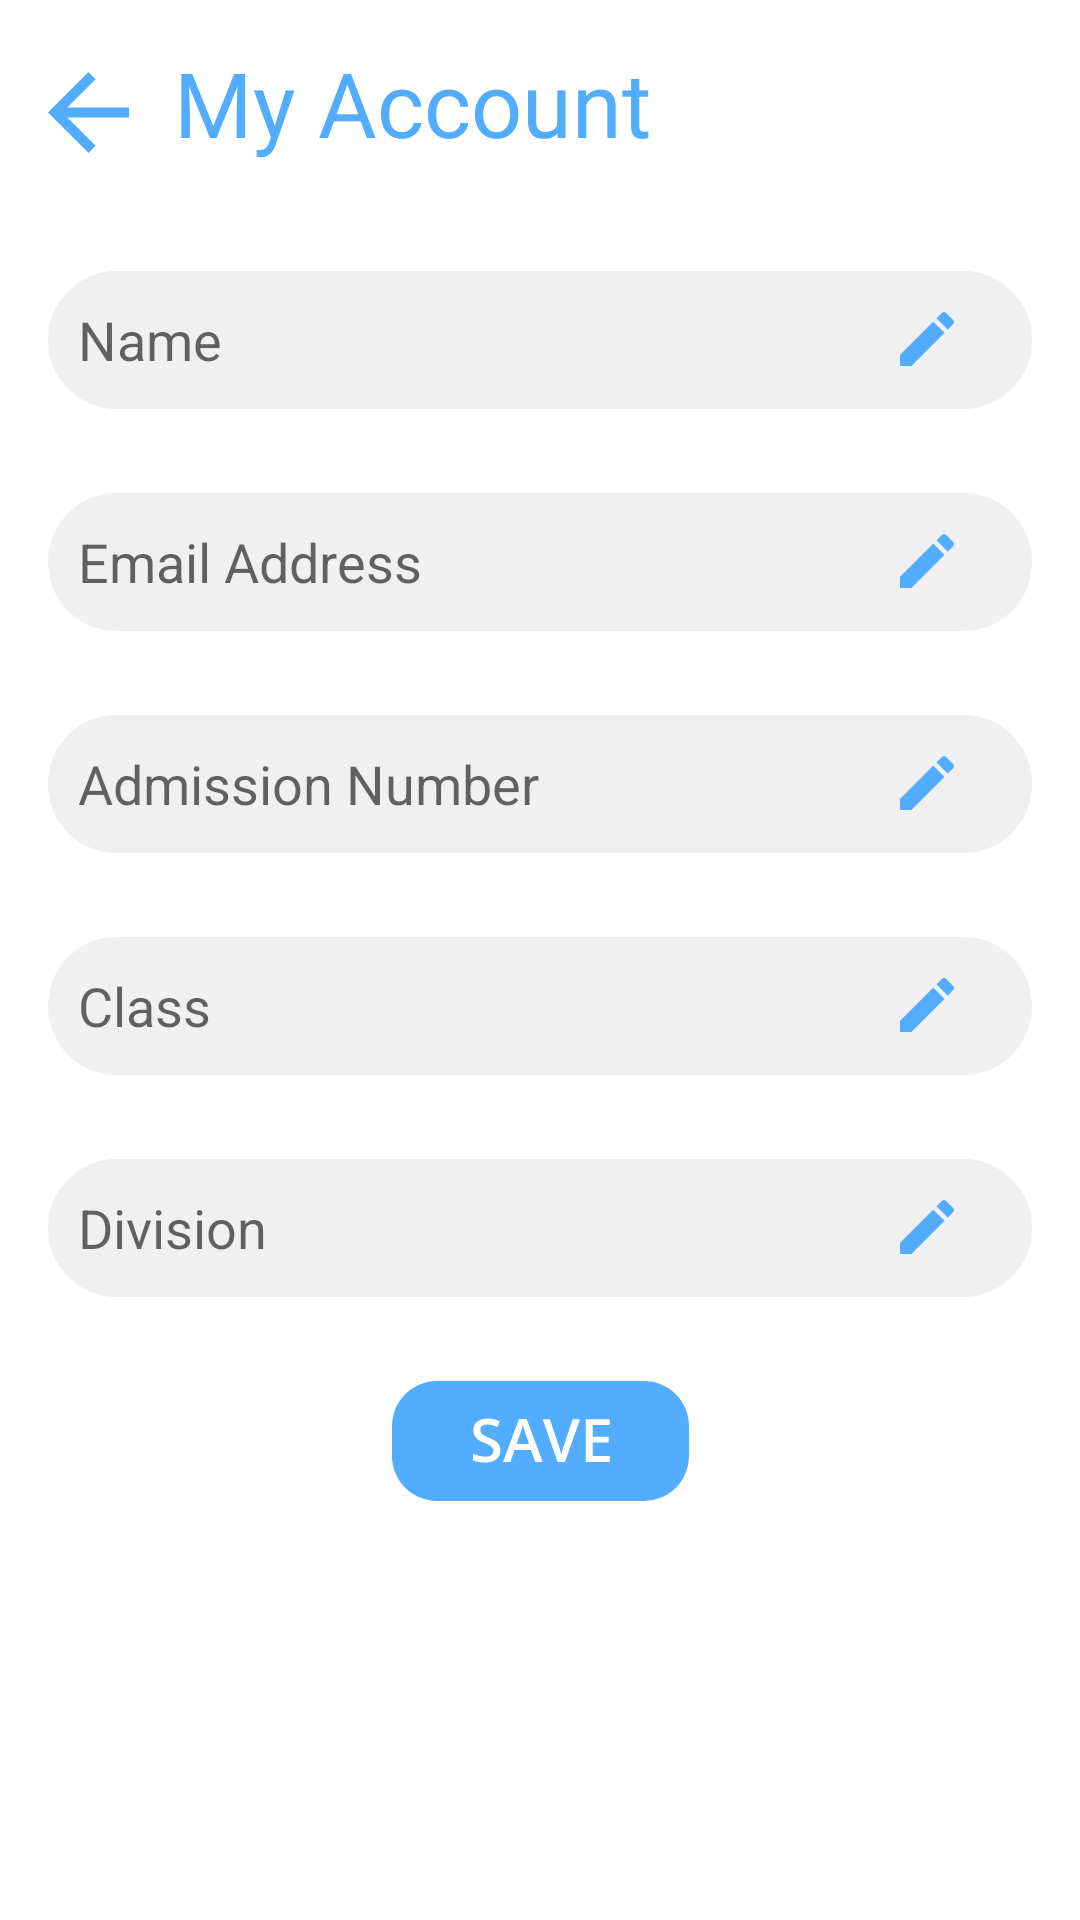

Locate icon controls on the screen. Image size 1080 × 1920, boxes as (x1, y1, x2, y2).
call rejection back: (48, 72, 129, 153)
pen: (900, 312, 954, 366), (900, 534, 954, 588), (900, 756, 954, 810), (900, 978, 954, 1032), (900, 1200, 954, 1254)
